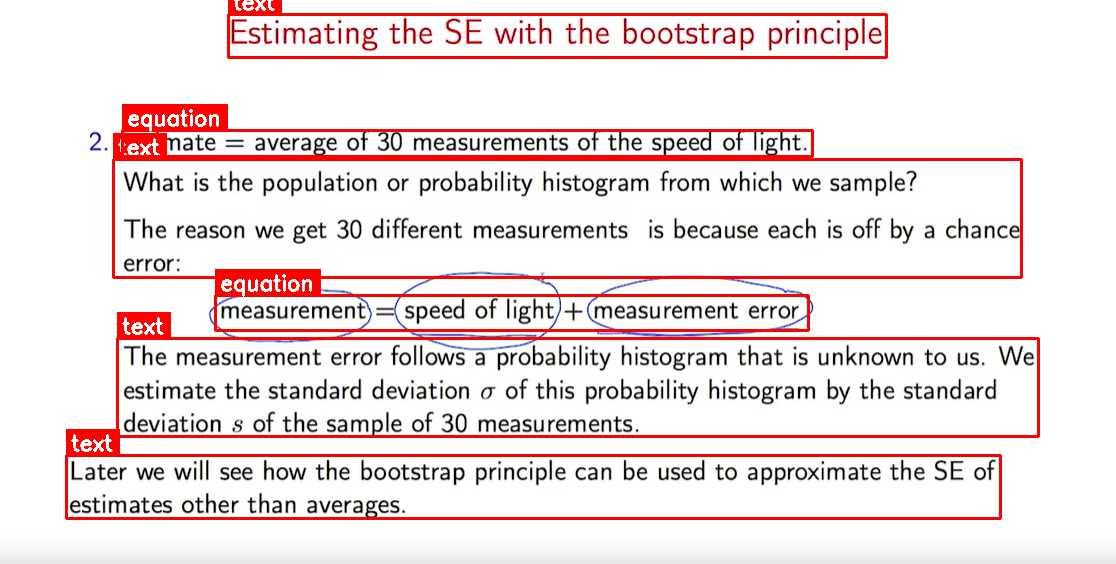equation: (215, 295, 808, 330), (122, 130, 812, 156)
text: (113, 159, 1021, 277), (117, 338, 1038, 436), (66, 455, 1000, 518), (228, 14, 886, 57)
